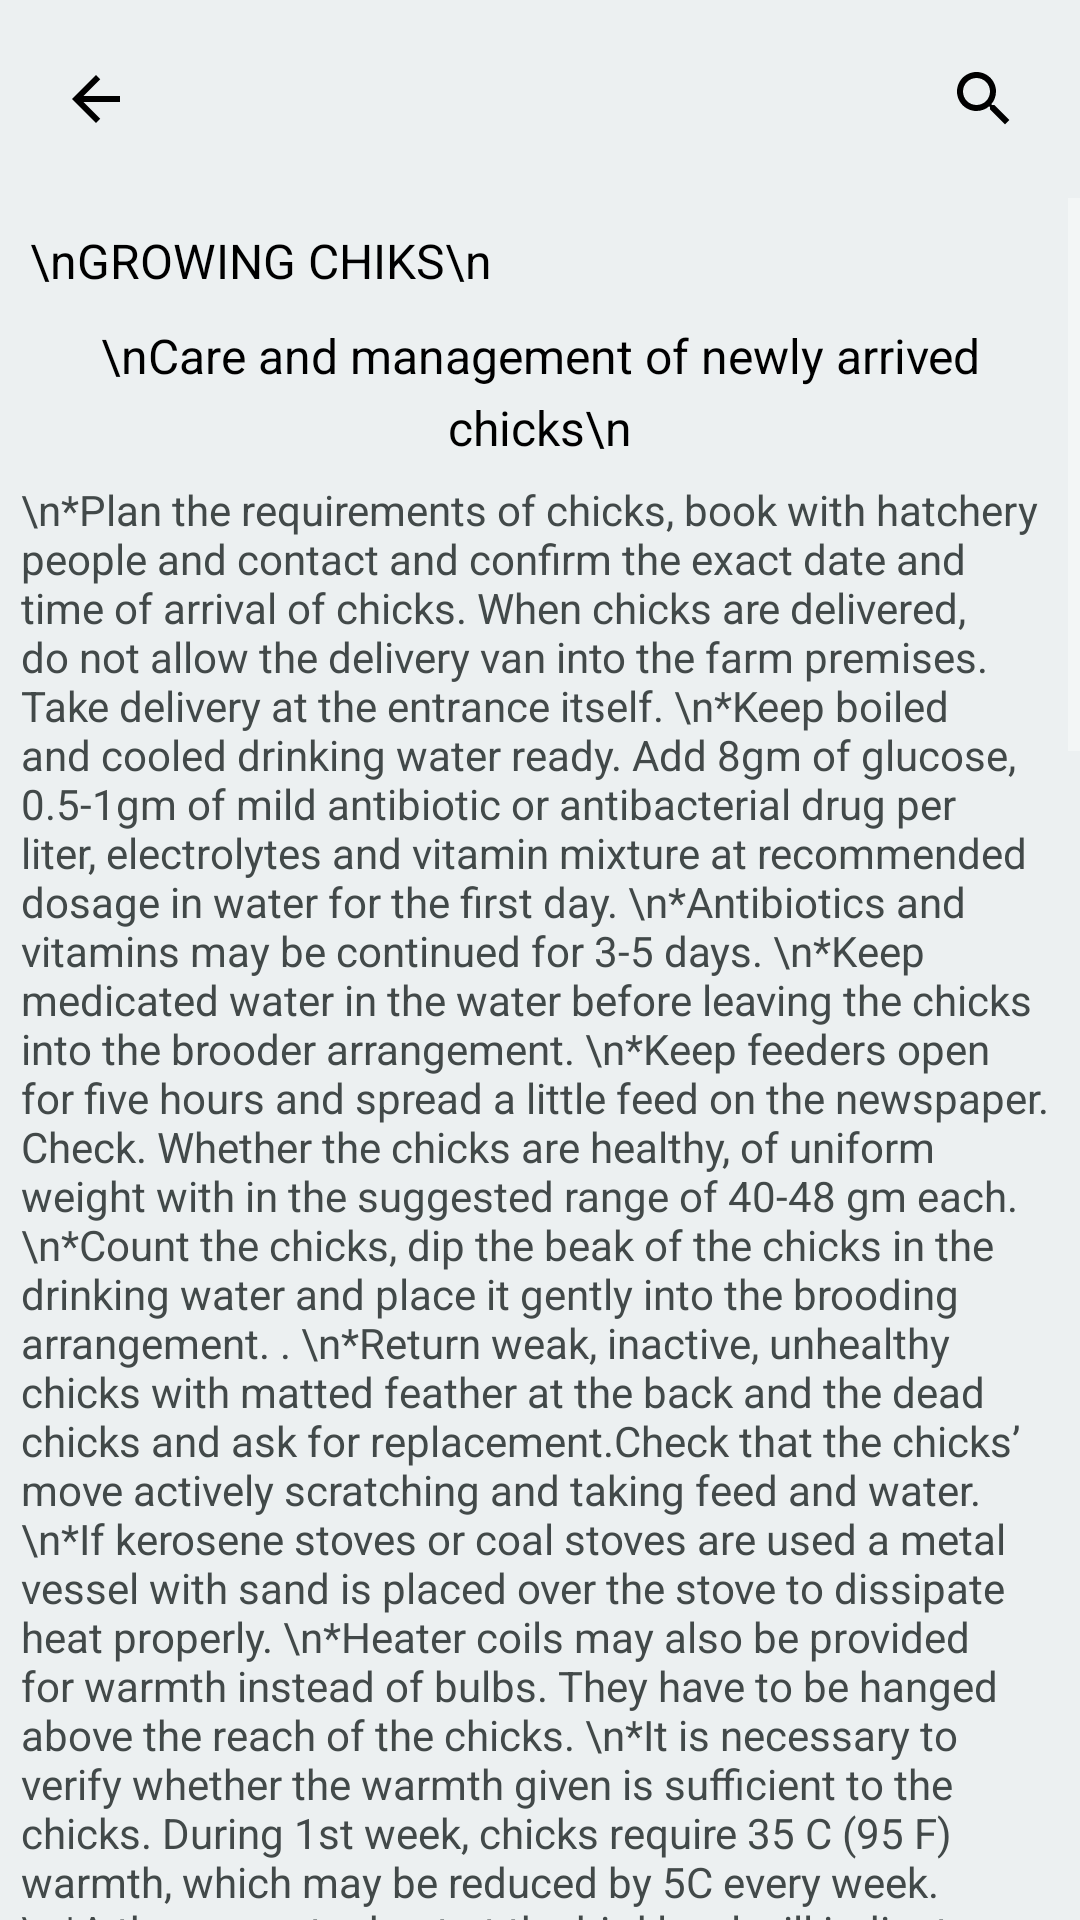

Screen size 1080*1920. Icon name, then its center in pixels as (x,y):
arrow back: (96,99)
search: (983,98)
